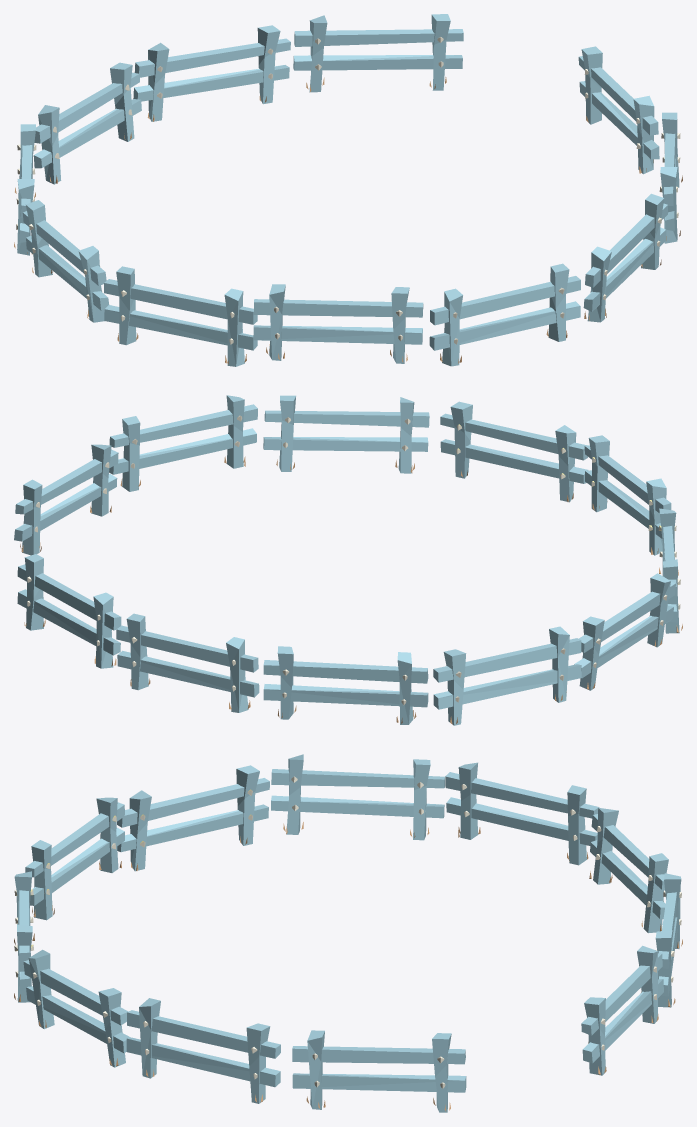
Rendered from fence-blue.gltf.
The picture shows the model from 3 angles, top to bottom: view 1: azimuth 30°, elevation 25°; view 2: azimuth 150°, elevation 25°; view 3: azimuth 270°, elevation 25°; orthographic projection. The views are drawn at different scales.
Parts seen in each view (by area): view 1: Cube.050, Cube.044, Cube.041, Cube.048, Cube.047, Cube.046, Cube.040, Cube.049, Cube.043, Cube.042, Cube.045; view 2: Cube.046, Cube.045, Cube.047, Cube.040, Cube.042, Cube.041, Cube.048, Cube.049, Cube.043, Cube.050, Cube.044; view 3: Cube.049, Cube.042, Cube.043, Cube.045, Cube.044, Cube.040, Cube.050, Cube.048, Cube.046, Cube.047, Cube.041.
Part boxes in pixels (x1,y1,x2,y2): Cube.050: (253, 284, 423, 363); Cube.044: (104, 266, 257, 366); Cube.041: (429, 263, 580, 366); Cube.048: (293, 14, 463, 92); Cube.047: (133, 25, 290, 121); Cube.046: (33, 62, 141, 184); Cube.040: (583, 193, 667, 322); Cube.049: (578, 46, 659, 174); Cube.043: (22, 200, 109, 322); Cube.042: (659, 112, 682, 243); Cube.045: (14, 124, 36, 255); Cube.046: (263, 646, 428, 724); Cube.045: (433, 626, 581, 725); Cube.047: (116, 613, 259, 712); Cube.040: (263, 395, 429, 473); Cube.042: (109, 395, 257, 491); Cube.041: (440, 401, 588, 502); Cube.048: (17, 554, 121, 668); Cube.049: (14, 444, 118, 555); Cube.043: (574, 573, 675, 690); Cube.050: (584, 435, 671, 555); Cube.044: (658, 508, 682, 633); Cube.049: (292, 1030, 466, 1112); Cube.042: (126, 998, 280, 1103); Cube.043: (271, 754, 444, 840); Cube.045: (445, 762, 599, 865); Cube.044: (117, 765, 269, 871); Cube.040: (23, 949, 130, 1067); Cube.050: (25, 797, 124, 920); Cube.048: (581, 945, 663, 1075); Cube.046: (589, 808, 668, 933); Cube.047: (655, 873, 682, 1007); Cube.041: (14, 871, 34, 1002).
Size of the model in its own units: 11.43 by 1.62 by 10.89.
